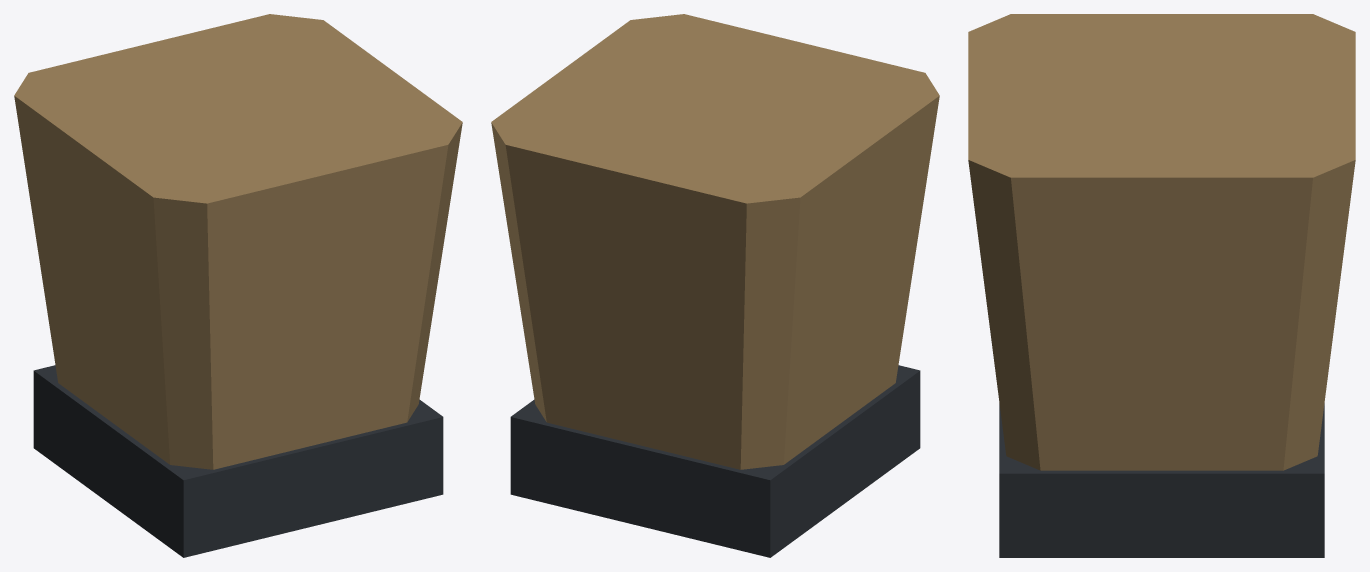
The model's file is pc_k9_lower_arm.fbx.
3 views of the same model, side by side, from view 1: azimuth 30°, elevation 25°; view 2: azimuth 150°, elevation 25°; view 3: azimuth 270°, elevation 25° (orthographic). The views are drawn at different scales.
Visible parts, largest first — view 1: pc_k9_lower_arm; view 2: pc_k9_lower_arm; view 3: pc_k9_lower_arm.
Boxes of the visible parts, bbox=[...] form: pc_k9_lower_arm: bbox=[14, 14, 462, 557]; pc_k9_lower_arm: bbox=[491, 14, 939, 557]; pc_k9_lower_arm: bbox=[968, 14, 1355, 557].
Bounding box in the file's own units: 100 × 112 × 100.
